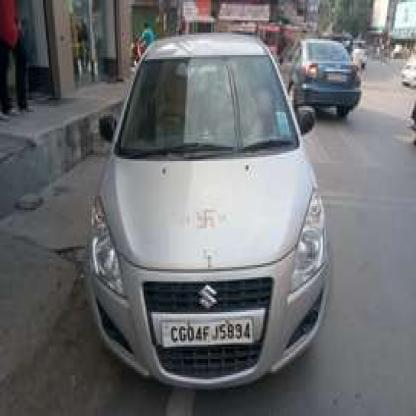license_plate: (160, 316, 250, 343)
